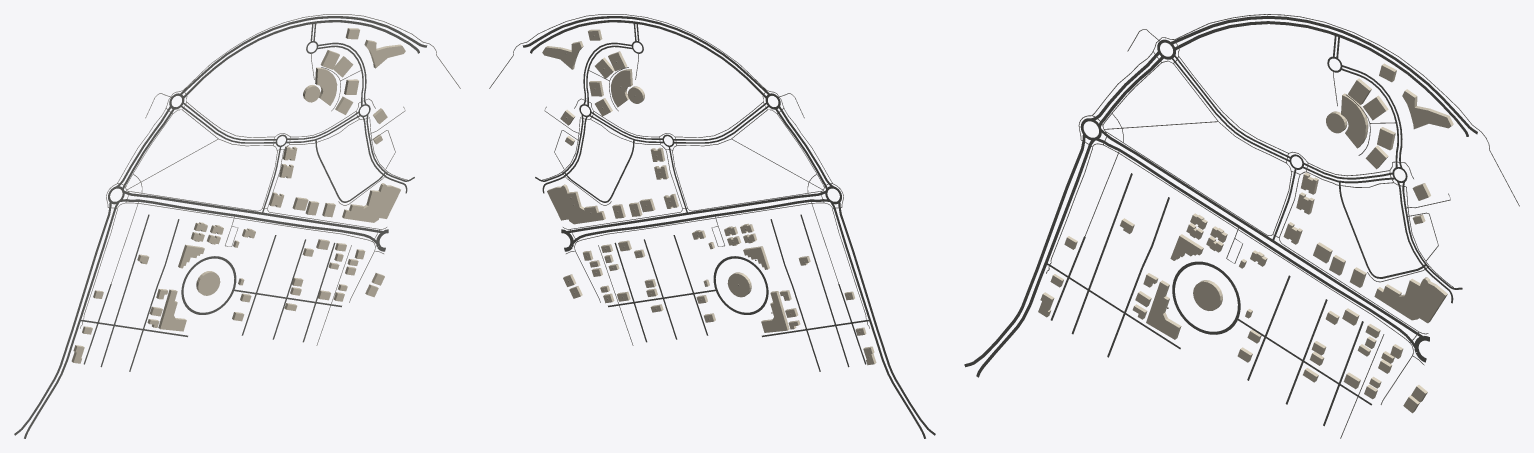
File: historic-palestine-04_23_3457_3170.glb
3 renders of one model, left to right at view 1: azimuth 30°, elevation 25°; view 2: azimuth 150°, elevation 25°; view 3: azimuth 330°, elevation 25°, orthographic. The views are drawn at different scales.
Visible parts, largest first — view 1: Building_.033, Road אריאל שרון, Road אריאל שרון.002, Road רפאל איתן.001, Road רפאל איתן, Building_.036, Building_.029, Building_.035, Road אריה תגר, Road .042, Road .022, Building_.050; view 2: Building_.033, Road אריאל שרון, Road אריאל שרון.002, Road רפאל איתן.001, Road רפאל איתן, Building_.036, Building_.029, Building_.035, Road .042, Road אריה תגר, Road .022, Building_.050; view 3: Building_.033, Road אריאל שרון, Road אריאל שרון.002, Road רפאל איתן.001, Building_.036, Road רפאל איתן, Building_.029, Building_.035, Road אריה תגר, Road .022, Building_.050, Road .042 (+2 smaller).
Boxes of the visible parts, x1,y1,x2,y2 form: Building_.033: (342, 183, 400, 222); Road אריאל שרון: (180, 16, 427, 95); Road אריאל שרון.002: (182, 20, 419, 98); Road רפאל איתן.001: (14, 201, 111, 435); Road רפאל איתן: (24, 201, 119, 438); Building_.036: (158, 289, 186, 331); Building_.029: (315, 67, 337, 105); Building_.035: (364, 39, 405, 68); Road אריה תגר: (219, 212, 378, 244); Road .042: (117, 14, 460, 183); Road .022: (181, 256, 236, 314); Building_.050: (196, 271, 220, 295); Building_.033: (547, 184, 605, 224); Road אריאל שרון: (522, 16, 769, 95); Road אריאל שרון.002: (530, 20, 767, 98); Road רפאל איתן.001: (838, 201, 935, 435); Road רפאל איתן: (830, 202, 925, 438); Building_.036: (761, 291, 789, 332); Building_.029: (611, 69, 632, 107); Building_.035: (542, 41, 583, 69); Road .042: (489, 14, 832, 183); Road אריה תגר: (571, 212, 730, 243); Road .022: (713, 256, 768, 314); Building_.050: (727, 272, 751, 297); Building_.033: (1374, 277, 1447, 323); Road אריאל שרון: (1170, 15, 1477, 134); Road אריאל שרון.002: (1173, 21, 1468, 136); Road רפאל איתן.001: (964, 134, 1085, 367); Building_.036: (1146, 280, 1181, 339); Road רפאל איתן: (976, 138, 1094, 377); Building_.029: (1341, 93, 1368, 148); Building_.035: (1402, 89, 1453, 129); Road אריה תגר: (1219, 213, 1417, 349); Road .022: (1172, 261, 1240, 334); Building_.050: (1193, 280, 1222, 310); Road .042: (1092, 14, 1519, 206).
Bounding box in the file's own units: 984 × 745 × 8.7.
